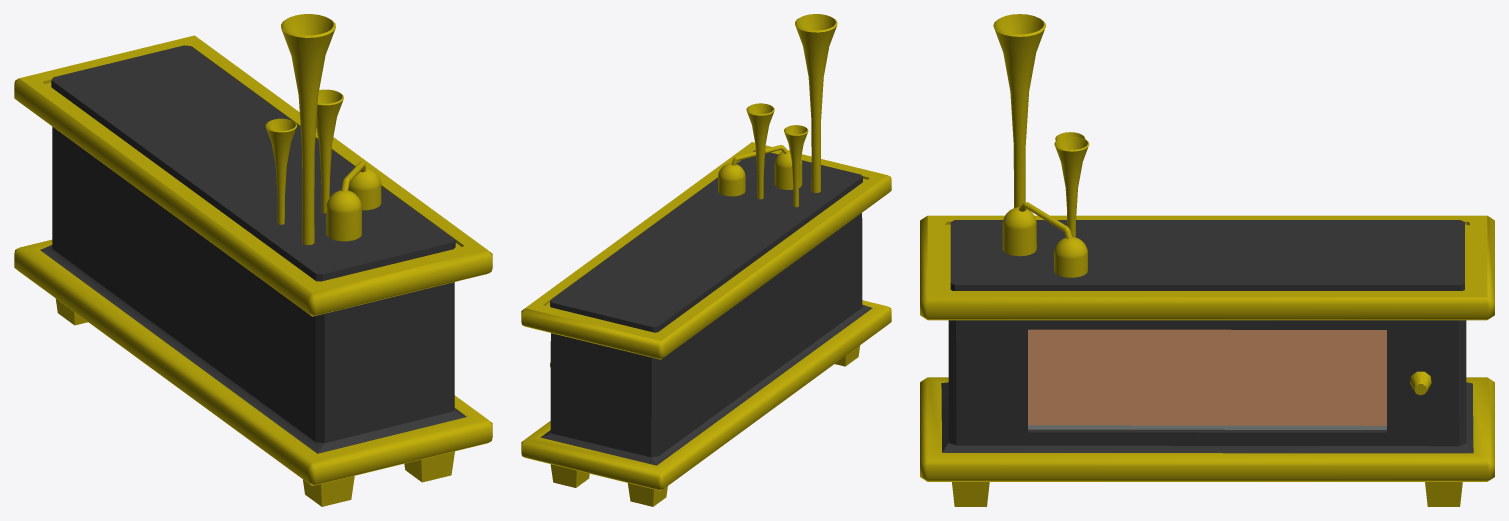
Rendered from Trompaune.fbx.
The picture shows the model from 3 angles, left to right: view 1: azimuth 30°, elevation 25°; view 2: azimuth 150°, elevation 25°; view 3: azimuth 270°, elevation 25°; orthographic projection. The views are drawn at different scales.
Visible parts, largest first — view 1: trompaune_body, trompaune_trompete_XL, tromapune_fuß, trompaune_trompete_M, trompaune_zylynder_L, trompaune_trompete_S, trompaune_zylynder_S; view 2: trompaune_body, trompaune_trompete_XL, tromapune_fuß, trompaune_trompete_M, trompaune_trompete_S, trompaune_zylynder_S, trompaune_zylynder_L; view 3: trompaune_body, trompaune_glas, trompaune_trompete_XL, tromapune_fuß, trompaune_trompete_M, trompaune_zylynder_L, trompaune_zylynder_S.
Boxes of the visible parts, bbox=[...] form: trompaune_body: bbox=[14, 35, 492, 485]; trompaune_trompete_XL: bbox=[281, 14, 335, 244]; tromapune_fuß: bbox=[55, 298, 454, 506]; trompaune_trompete_M: bbox=[316, 89, 343, 213]; trompaune_zylynder_L: bbox=[326, 190, 361, 241]; trompaune_trompete_S: bbox=[265, 118, 296, 224]; trompaune_zylynder_S: bbox=[348, 167, 381, 210]; trompaune_body: bbox=[521, 142, 891, 490]; trompaune_trompete_XL: bbox=[795, 14, 837, 192]; tromapune_fuß: bbox=[550, 345, 859, 506]; trompaune_trompete_M: bbox=[746, 103, 774, 199]; trompaune_trompete_S: bbox=[784, 125, 808, 207]; trompaune_zylynder_S: bbox=[718, 163, 745, 196]; trompaune_zylynder_L: bbox=[774, 150, 802, 189]; trompaune_body: bbox=[920, 215, 1494, 481]; trompaune_glas: bbox=[1028, 329, 1386, 429]; trompaune_trompete_XL: bbox=[993, 14, 1045, 207]; tromapune_fuß: bbox=[952, 482, 1462, 506]; trompaune_trompete_M: bbox=[1054, 136, 1089, 237]; trompaune_zylynder_L: bbox=[1002, 207, 1036, 256]; trompaune_zylynder_S: bbox=[1054, 237, 1087, 277].
Size of the model in its own units: 1.67 by 3.9 by 4.7.
